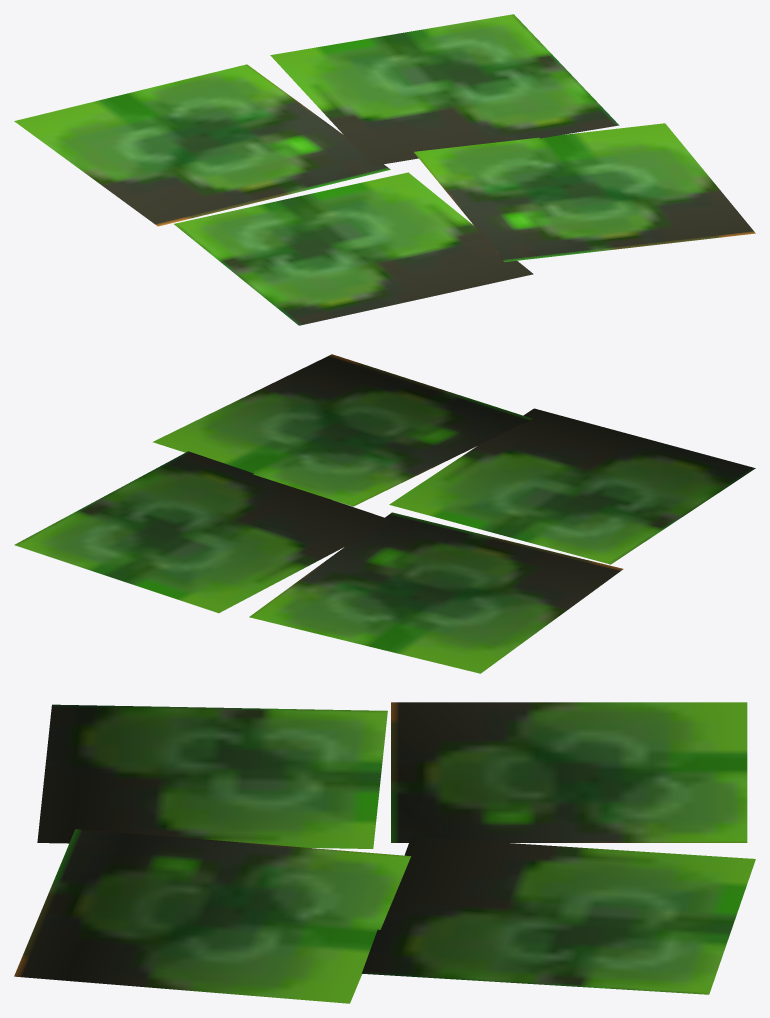
File: fg_grassE.dae
The picture shows the model from 3 angles, top to bottom: view 1: azimuth 30°, elevation 25°; view 2: azimuth 150°, elevation 25°; view 3: azimuth 270°, elevation 25°; orthographic projection. The views are drawn at different scales.
Parts seen in each view (by area): view 1: fg_grassE; view 2: fg_grassE; view 3: fg_grassE.
Boxes of the visible parts, bbox=[...] form: fg_grassE: bbox=[14, 14, 755, 325]; fg_grassE: bbox=[14, 354, 755, 673]; fg_grassE: bbox=[14, 702, 755, 1003].
Size of the model in its own units: 23.5 by 0.3916 by 24.87.
1 material, 1 textured.
